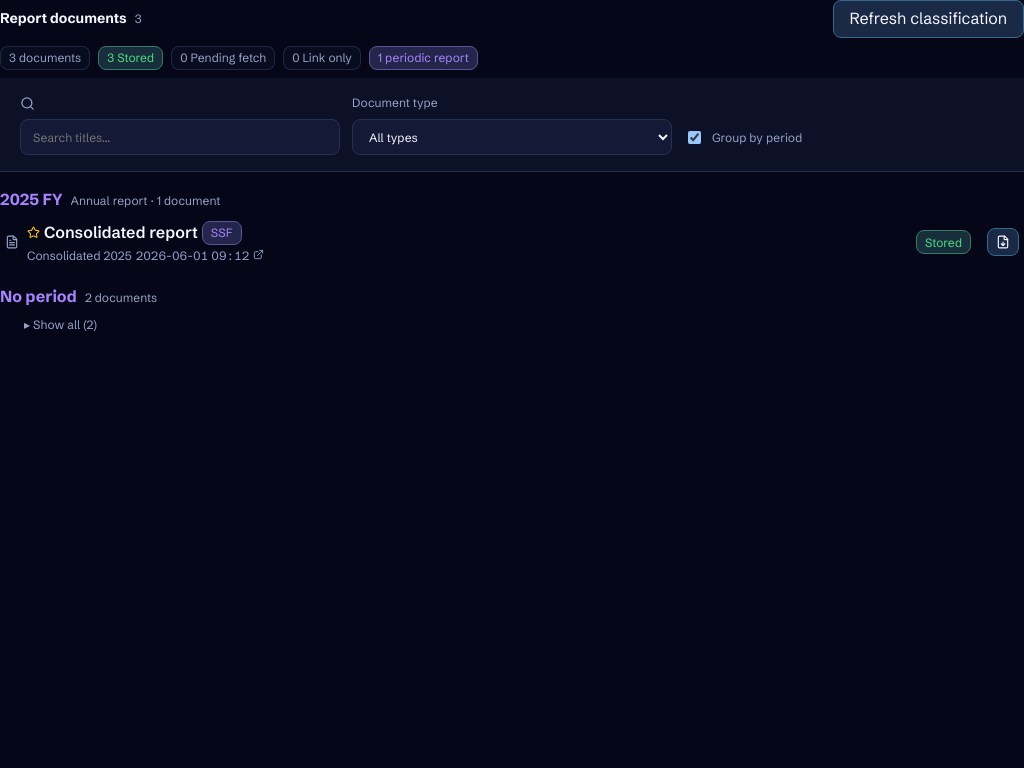
it: CompanyReportDocumentsPanel › collapses the No-period group and expands it with the count
The image size is (1024, 768).
Expected: the text "No period" is shown, [0,285,77,308]
Expected: the text "Governance notice A" is not shown
Click the button "▸ Show all (2)". click: {"x": 48, "y": 325}
box: [0,312,97,338]
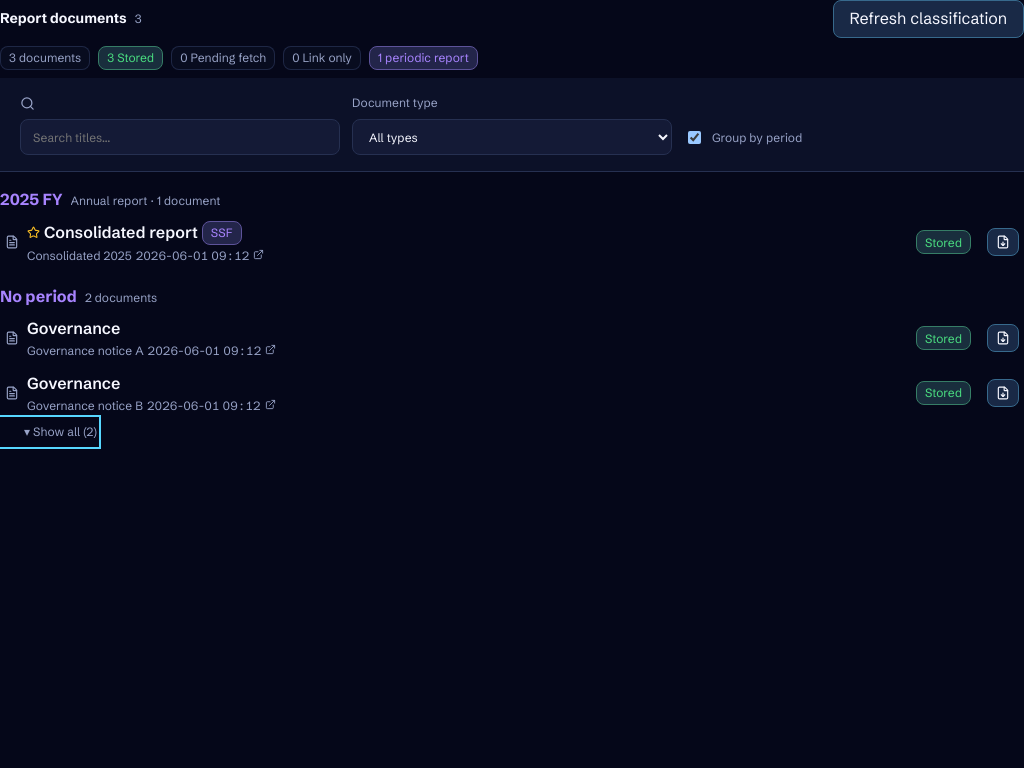
Expected: the text "Governance notice A" is shown, [27,342,144,360]
Expected: the text "Governance notice B" is shown, [27,397,143,414]
